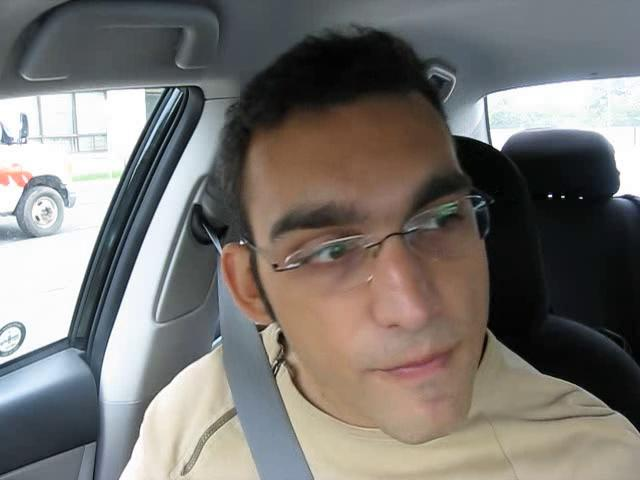no_yawn: (349, 332, 477, 398)
open_eyeL: (277, 221, 376, 285)
open_eyeR: (404, 188, 483, 250)
